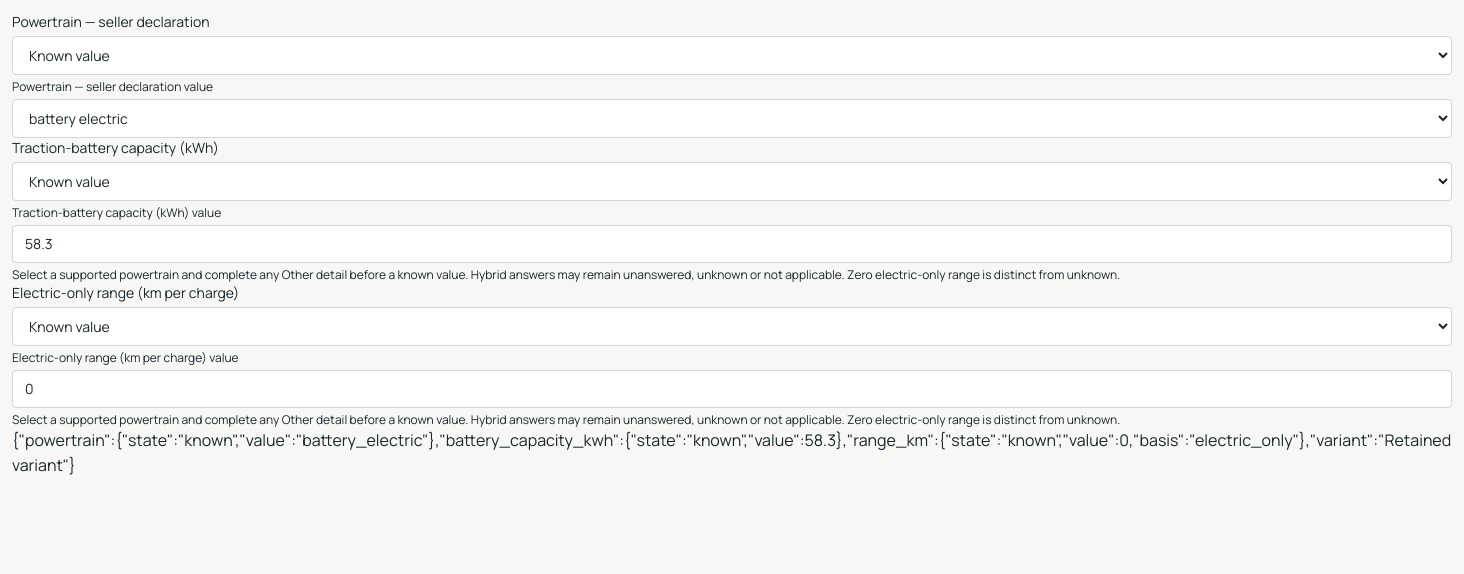
editing Other powertrain detail disables and re-enables retained numbers without clearing unrelated answers
Step 1. Select "other" in the dropdown named "powertrain value" → (732, 118), box [12,99,1452,138]
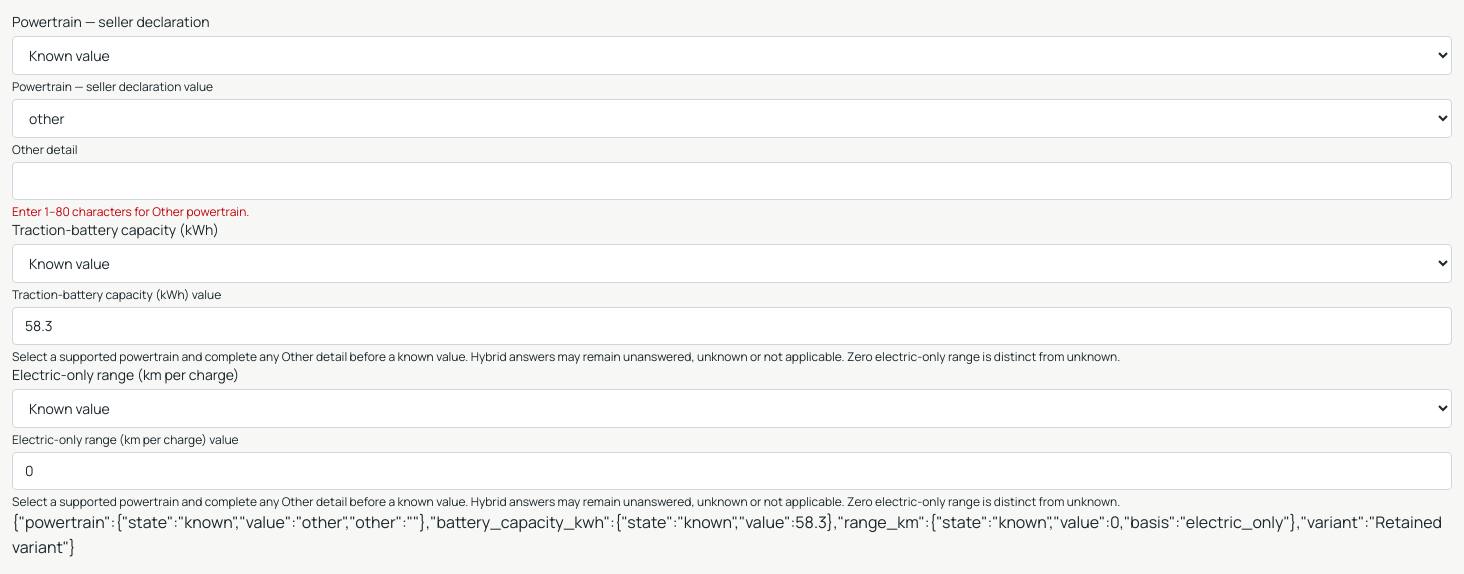
Expected: the number field named "range_km value" is disabled, [12,452,1452,490]
Expected: the number field named "battery_capacity_kwh value" is disabled, [12,307,1452,345]
Expected: the message shows "Enter 1–80 characters for Other powertrain", [12,203,249,220]
Step 2. Type "Seller detail" into the field named "powertrain Other detail" → (732, 181), box [12,162,1452,200]
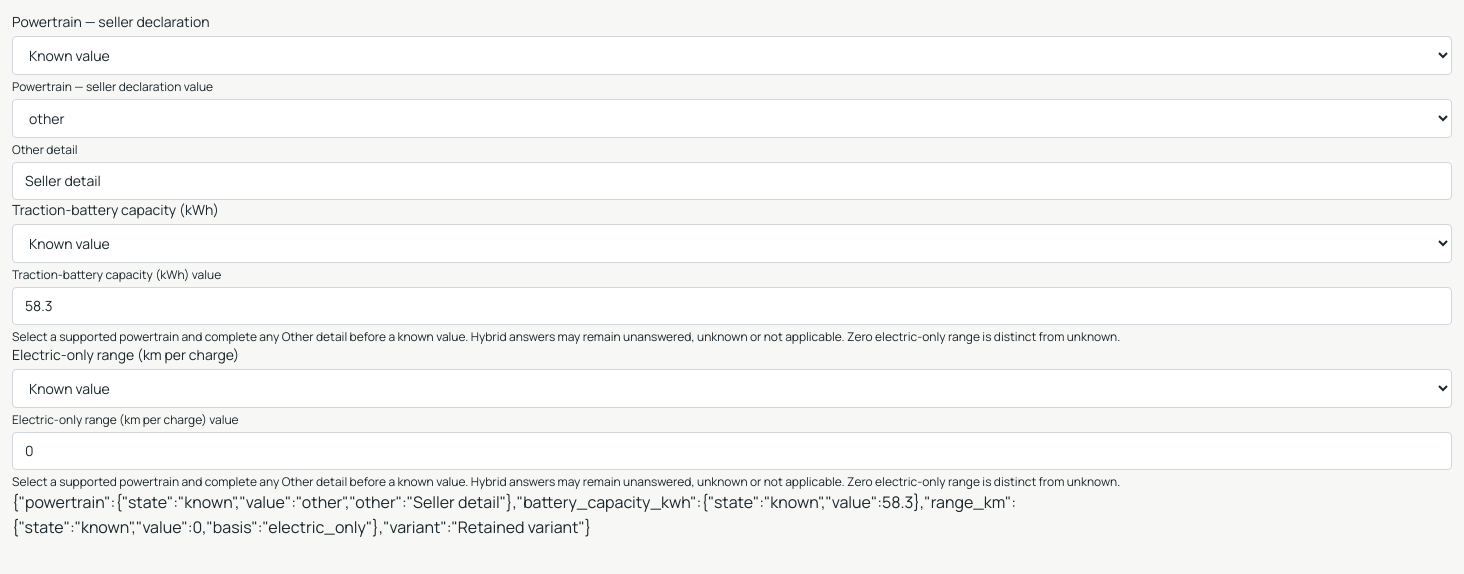
Expected: the number field named "range_km value" is enabled, [12,432,1452,470]
Expected: the number field named "battery_capacity_kwh value" is enabled, [12,287,1452,325]
Step 3. Clear the field named "powertrain Other detail" → (732, 181), box [12,162,1452,200]
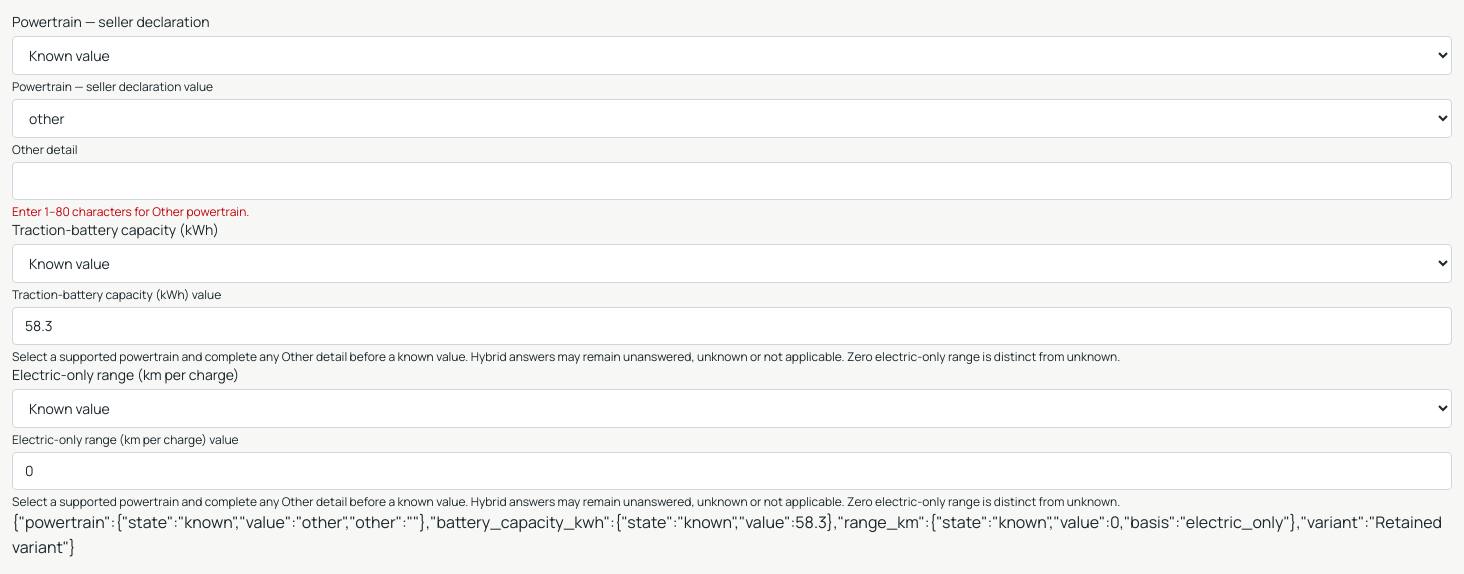
Expected: the number field named "range_km value" is disabled, [12,452,1452,490]
